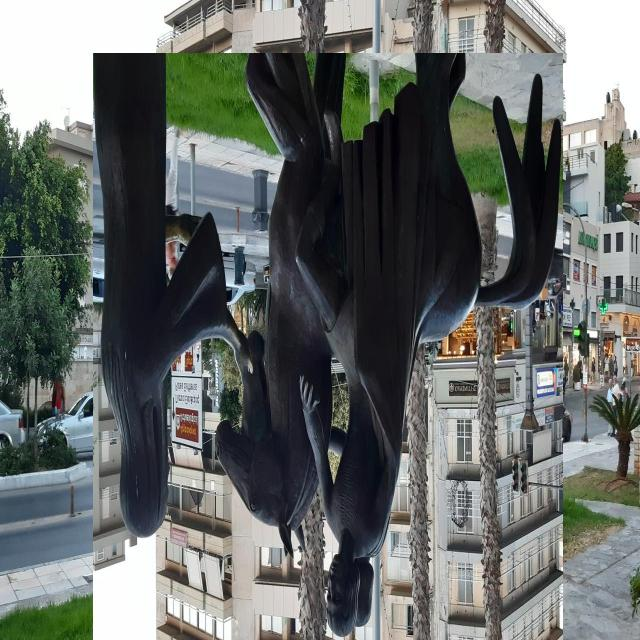Aretousa: (94, 54, 564, 640)
